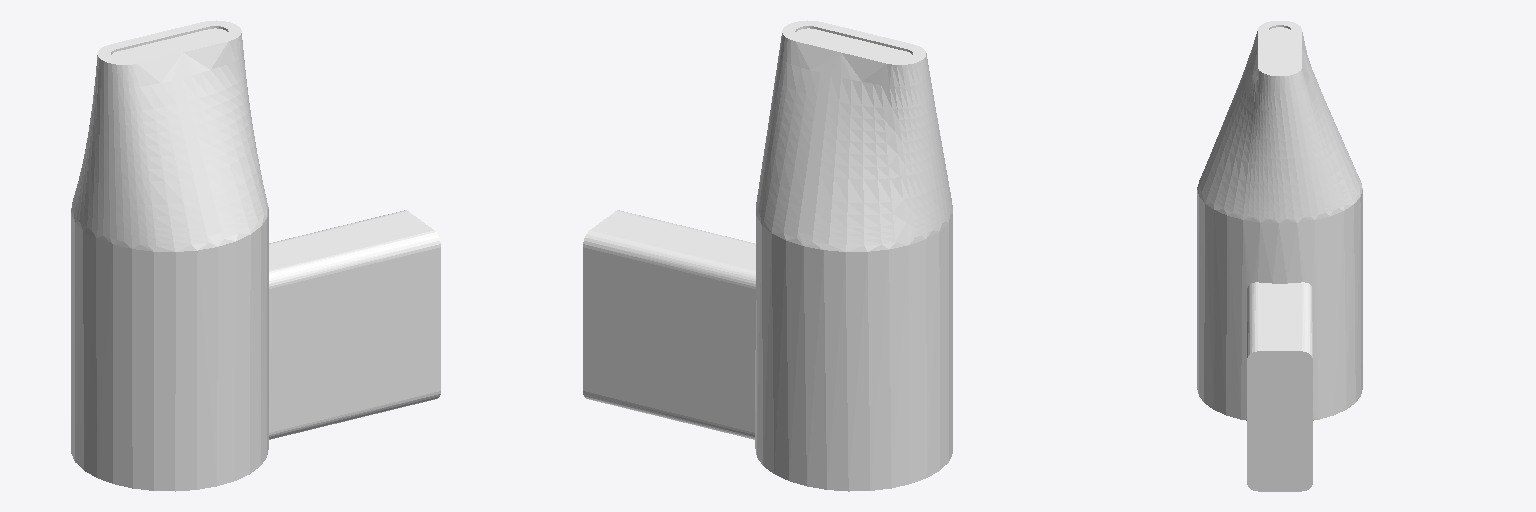
The robot description file, URDF, robot "hair_dryer.obj":
<robot name="hair_dryer.obj">
	<link name="_name">
		<visual>
			<origin xyz="-0.0144940703839489 -4.5936079416993064e-06 -0.0652131189210641" rpy="0 0 0" />
			<geometry>
				<mesh filename="hair_dryer.obj" scale="0.001 0.001 0.001" />
			</geometry>
			<material name="texture">
				<color rgba="1.0 1.0 1.0 1.0" />
			</material>
		</visual>
		<collision>
			<geometry>
				<mesh filename="hair_dryer_vhacd.obj" scale="0.001 0.001 0.001" />
			</geometry>
		<origin xyz="-0.0144940703839489 -4.5936079416993064e-06 -0.0652131189210641" rpy="0 0 0" /></collision>
		<inertial>
			<mass value="0.3" />
			<inertia ixx="0.6" ixy="0.0" ixz="0.0" iyy="0.5" iyz="-0.0" izz="0.08" />
		</inertial>
	</link>
</robot>

--- What the picture shows (computed from the rendered views, not written in the file) ---
The picture shows the robot from 3 angles, left to right: view 1: azimuth 30°, elevation 25°; view 2: azimuth 150°, elevation 25°; view 3: azimuth 270°, elevation 25°; orthographic projection.
Robot: hair_dryer.obj — 1 links, 0 joints (none); root link _name; default pose: every joint at zero.
Links seen in each view (by area): view 1: _name; view 2: _name; view 3: _name.
Link boxes in pixels (left/top/right/bottom): _name: left=71, top=20, right=440, bottom=491; _name: left=583, top=20, right=952, bottom=491; _name: left=1197, top=21, right=1362, bottom=491.
Bounding box of the posed robot: 0.1475 × 0.075 × 0.17 m (x, y, z).
1 mesh visuals loaded from 1 distinct referenced files (1 OBJ).